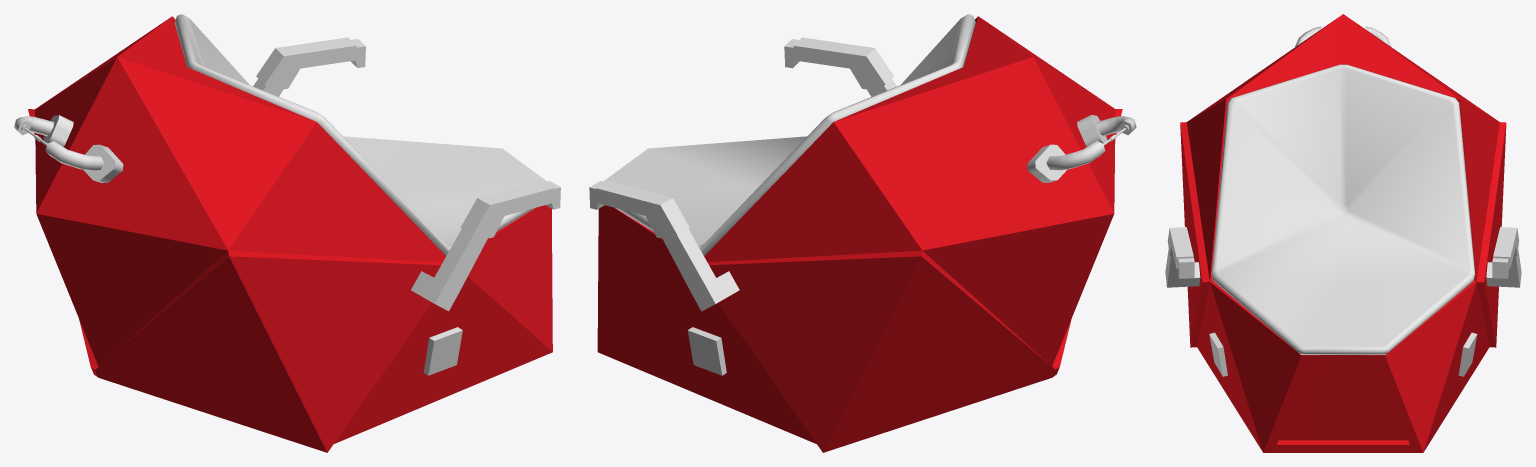
File: curs_chair_lp.fbx
3 views of the same model, side by side, from view 1: azimuth 30°, elevation 25°; view 2: azimuth 150°, elevation 25°; view 3: azimuth 270°, elevation 25° (orthographic). The views are drawn at different scales.
Visible parts, largest first — view 1: base_low, pillow_low, handles_low, pipe_low, vent_base_low; view 2: base_low, pillow_low, handles_low, pipe_low, vent_base_low; view 3: pillow_low, base_low, handles_low, vent_base_low.
Part boxes in pixels (x1=…): base_low: x1=28, y1=16, x2=552, y2=452; pillow_low: x1=174, y1=14, x2=546, y2=255; handles_low: x1=253, y1=37, x2=560, y2=311; pipe_low: x1=14, y1=115, x2=123, y2=182; vent_base_low: x1=423, y1=327, x2=462, y2=375; base_low: x1=597, y1=16, x2=1122, y2=452; pillow_low: x1=603, y1=14, x2=975, y2=255; handles_low: x1=589, y1=37, x2=896, y2=311; pipe_low: x1=1027, y1=115, x2=1136, y2=182; vent_base_low: x1=687, y1=327, x2=726, y2=375; pillow_low: x1=1211, y1=64, x2=1475, y2=354; base_low: x1=1180, y1=14, x2=1506, y2=452; handles_low: x1=1165, y1=227, x2=1521, y2=287; vent_base_low: x1=1209, y1=332, x2=1477, y2=376.
Bounding box in the file's own units: 124 × 83.95 × 94.19.
